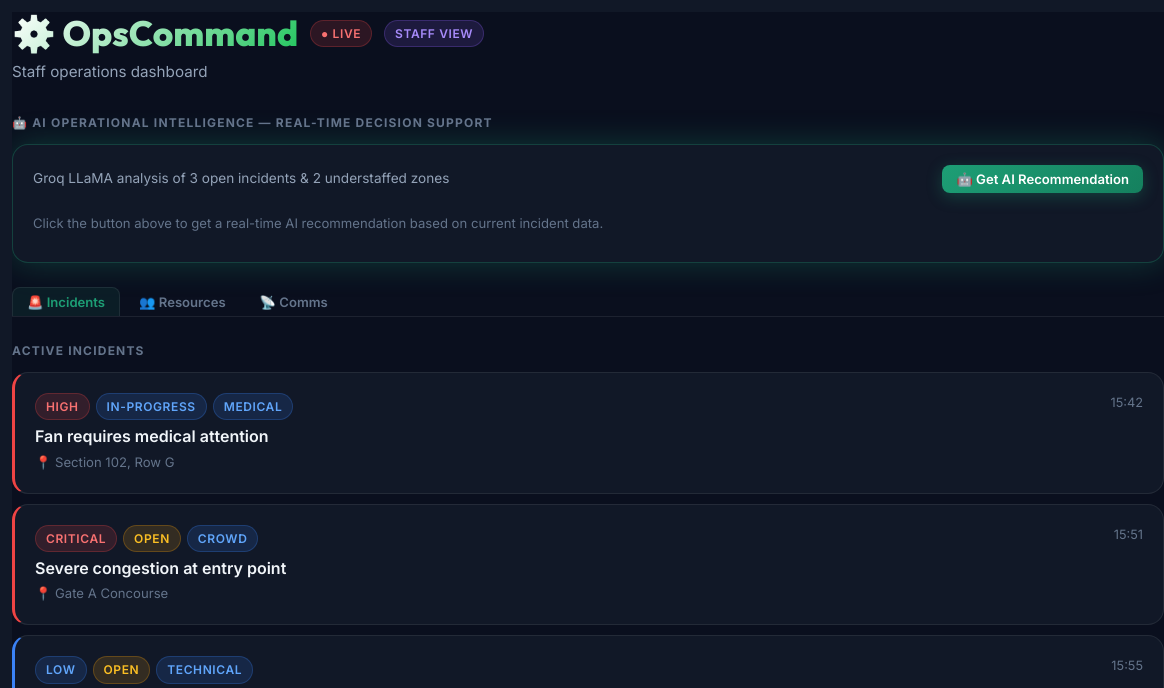
Test: OpsCommand › switches to resources tab on click
Click the button with aria-label "resources tab" at (182, 301), box [124,287,241,316]
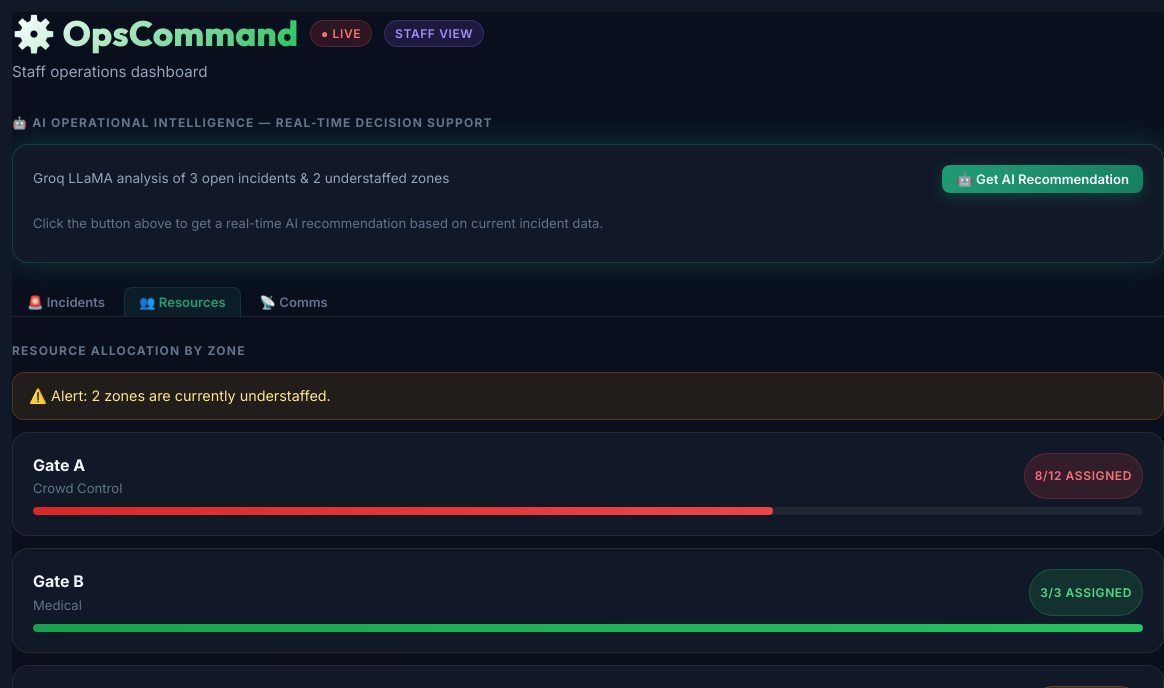
Check: the text "Resource Allocation by Zone" is shown, box [12,343,246,358]
